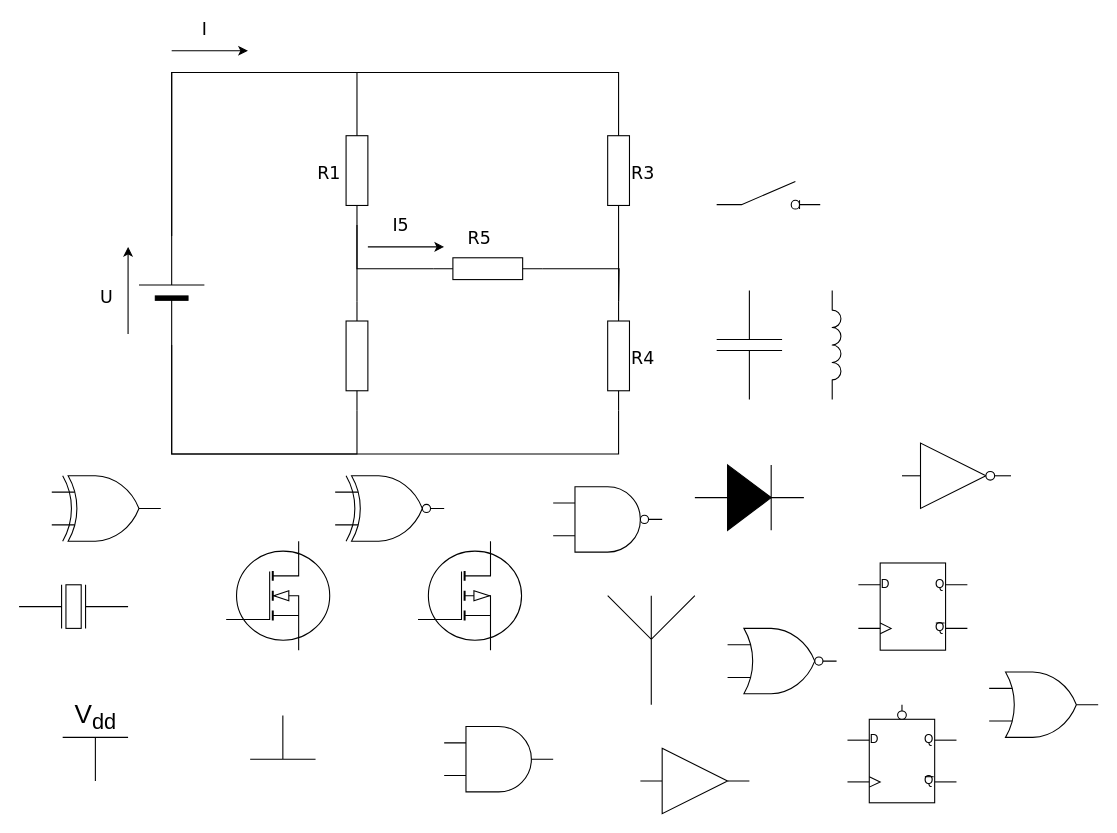
The diagram is 1117 pixels wide and 833 high, and some of its shapes have lost their labels. Each missing label, with the centre of its shape:
R2: the point at 356,355
V ss: the point at 282,736
